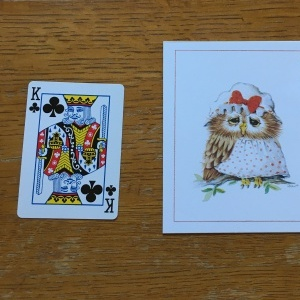card: (18, 78, 123, 222)
